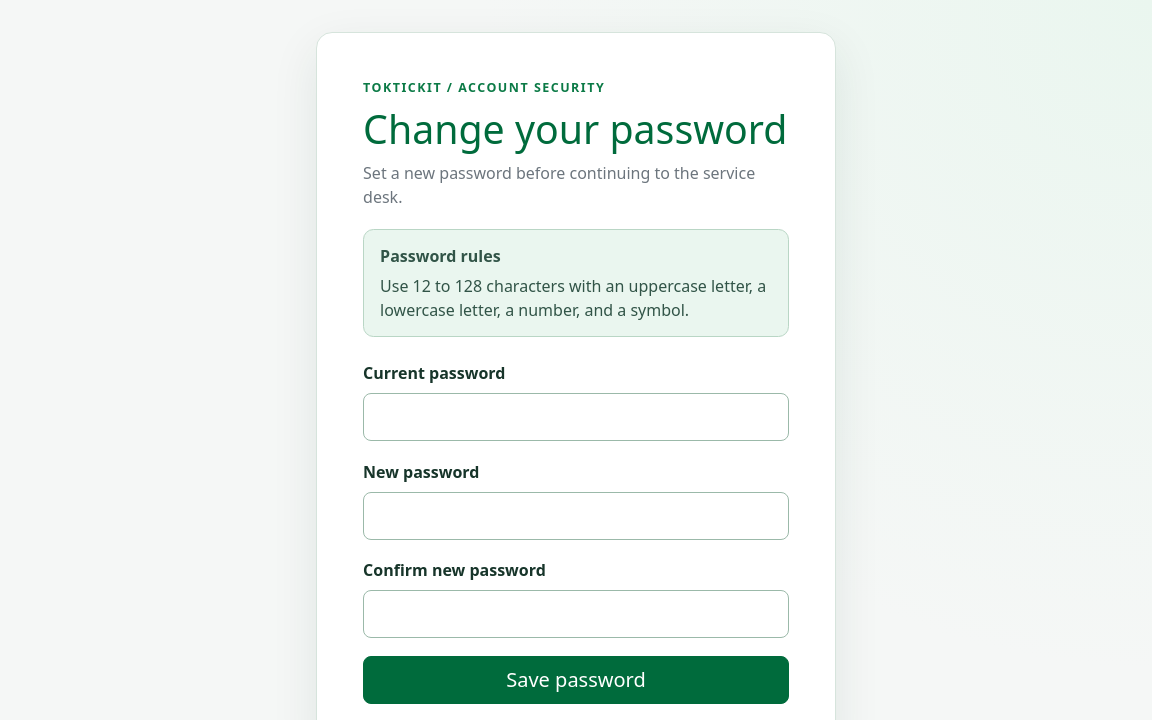
Lab 3 Change Password screen › shows password rules and validates boundary and confirmation errors
This screenshot has width=1152, height=720.
Expected: the heading "Change your password" is shown, [363,106,789,153]
Expected: the text "12 to 128 characters" is shown, [380,275,766,321]
Click the button "Save password" at [576, 680], box [363,656,789,704]
(page scrolled)
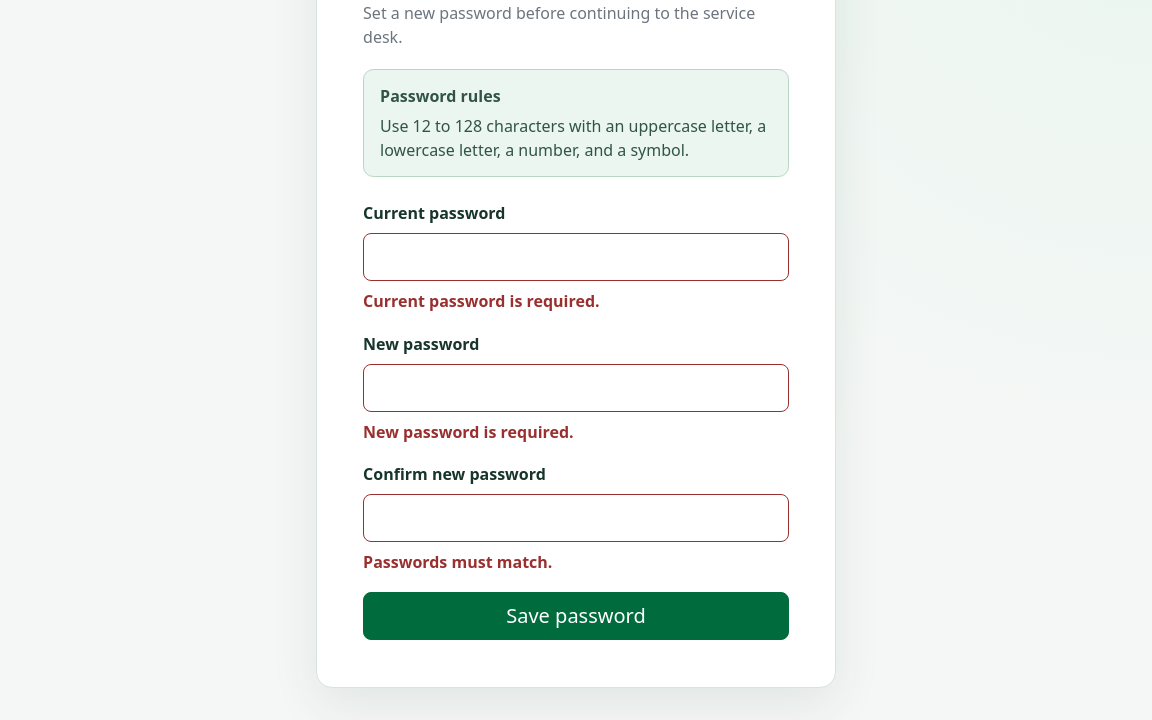
Expected: the text "Current password is required." is shown, [363,290,600,312]
Expected: the text "New password is required." is shown, [363,421,574,443]
Expected: the text "Passwords must match." is shown, [363,551,552,573]
